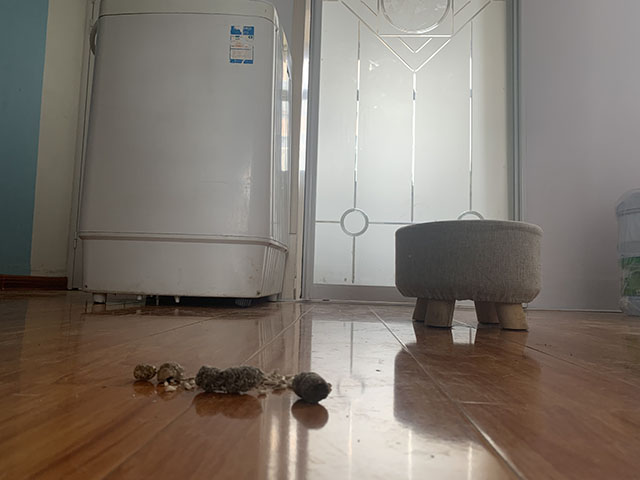feces: (194, 365, 267, 396), (133, 360, 186, 388), (290, 371, 332, 404)
stool: (394, 218, 545, 332)
